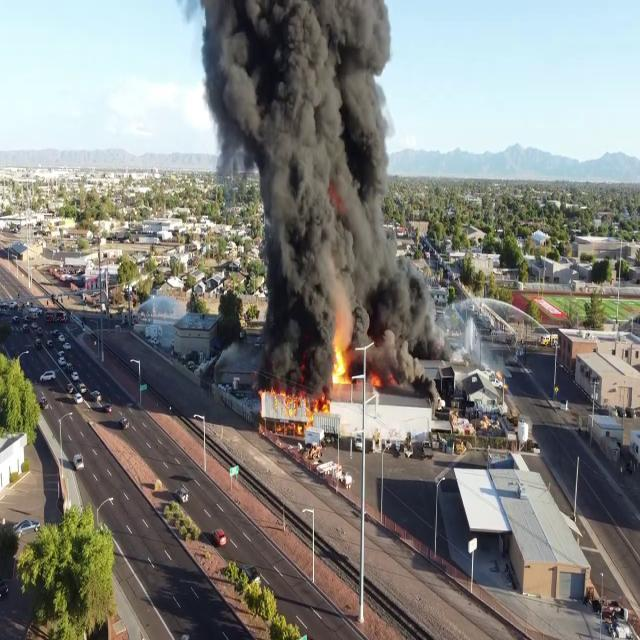Fire: (260, 382, 324, 428), (329, 320, 354, 390)
Smoke: (190, 1, 440, 378)
